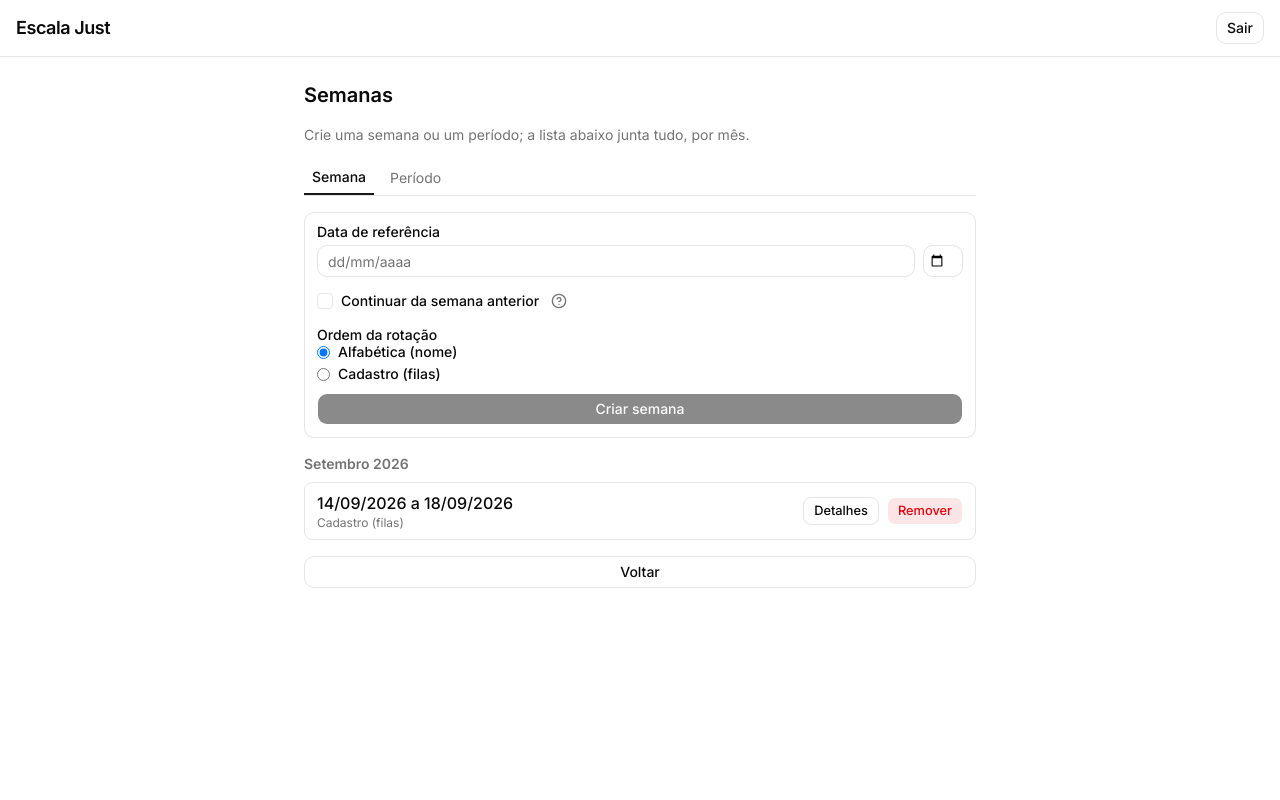
guardas de rota › criar semana com continuidade herda âncoras
Expected: the heading "Semanas" is shown, [304,83,393,107]
Click the checkbox named "continuar da semana anterior" at x=325, y=301, box [317,293,333,309]
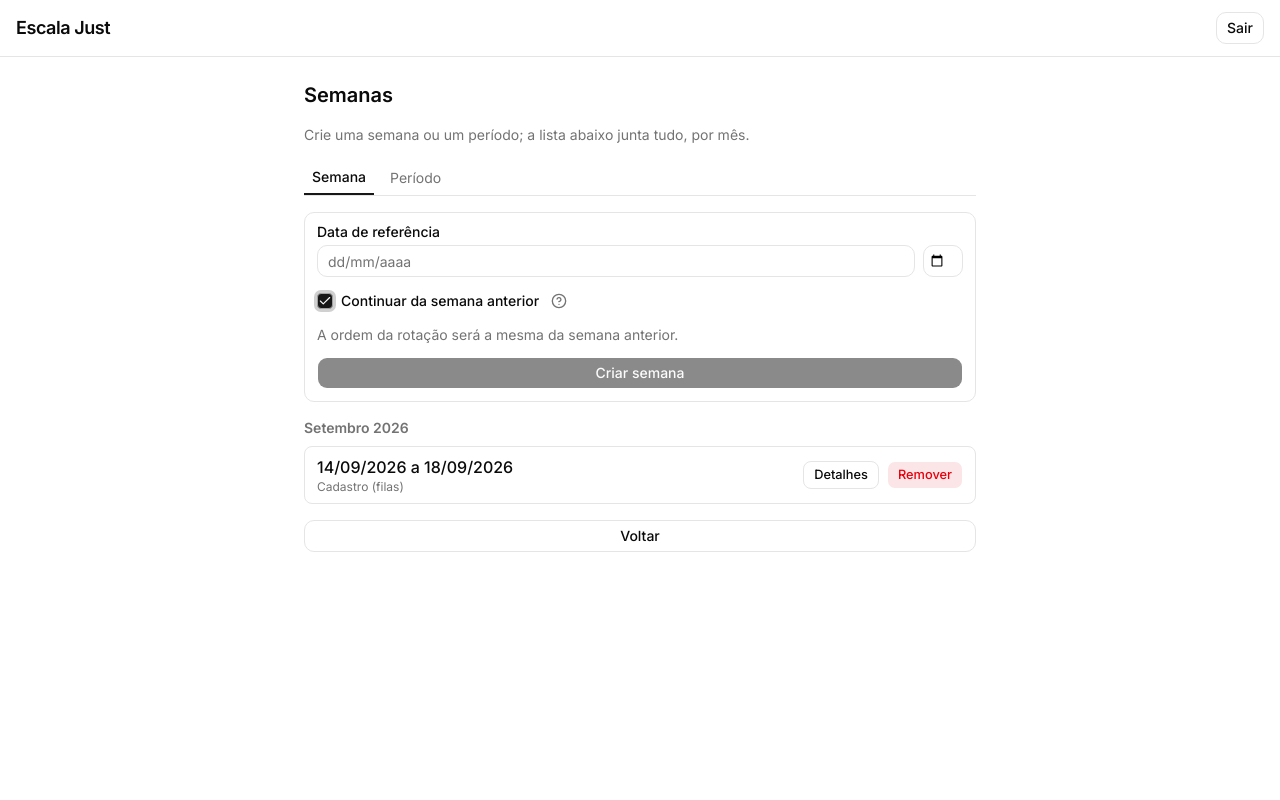
Type "21/09/2026" into the field labelled "Data de referência" at x=616, y=261, box [317,245,915,277]
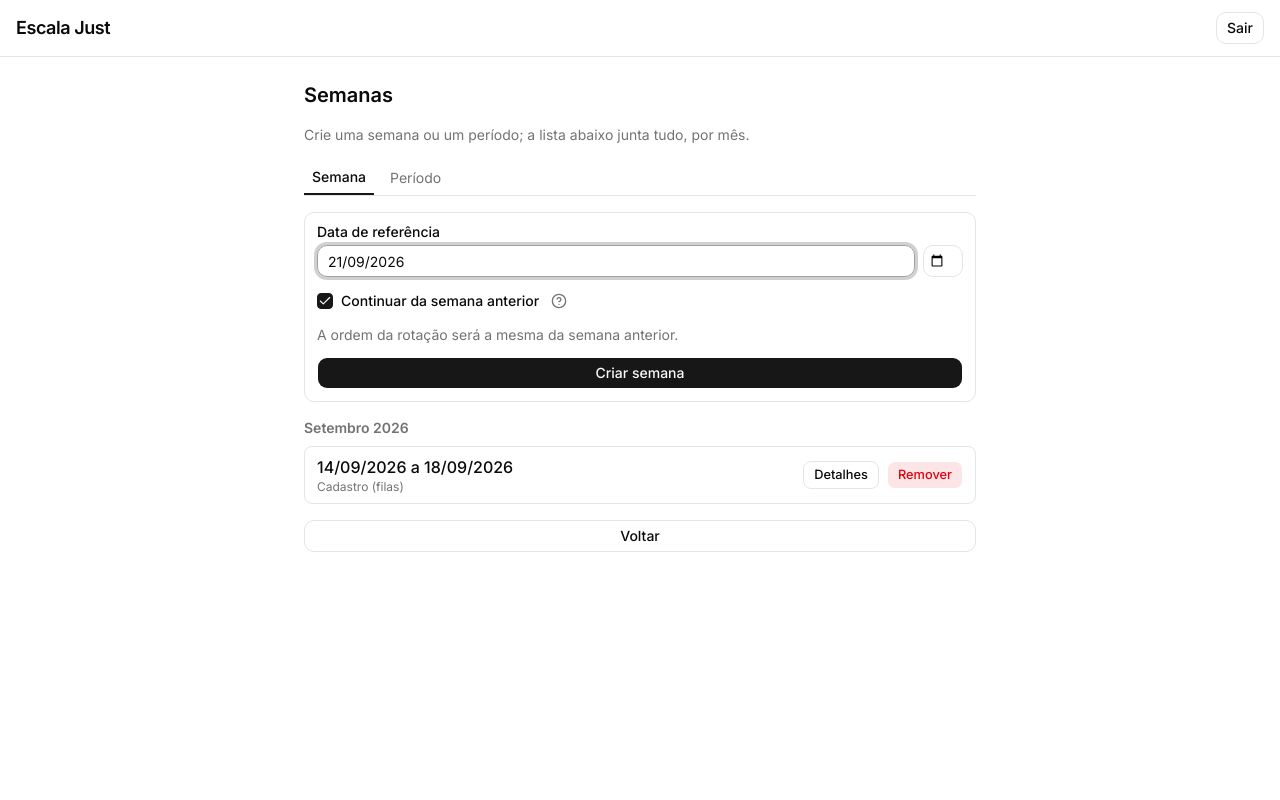
Click the button "Criar semana" at x=640, y=373, box [317,357,963,389]
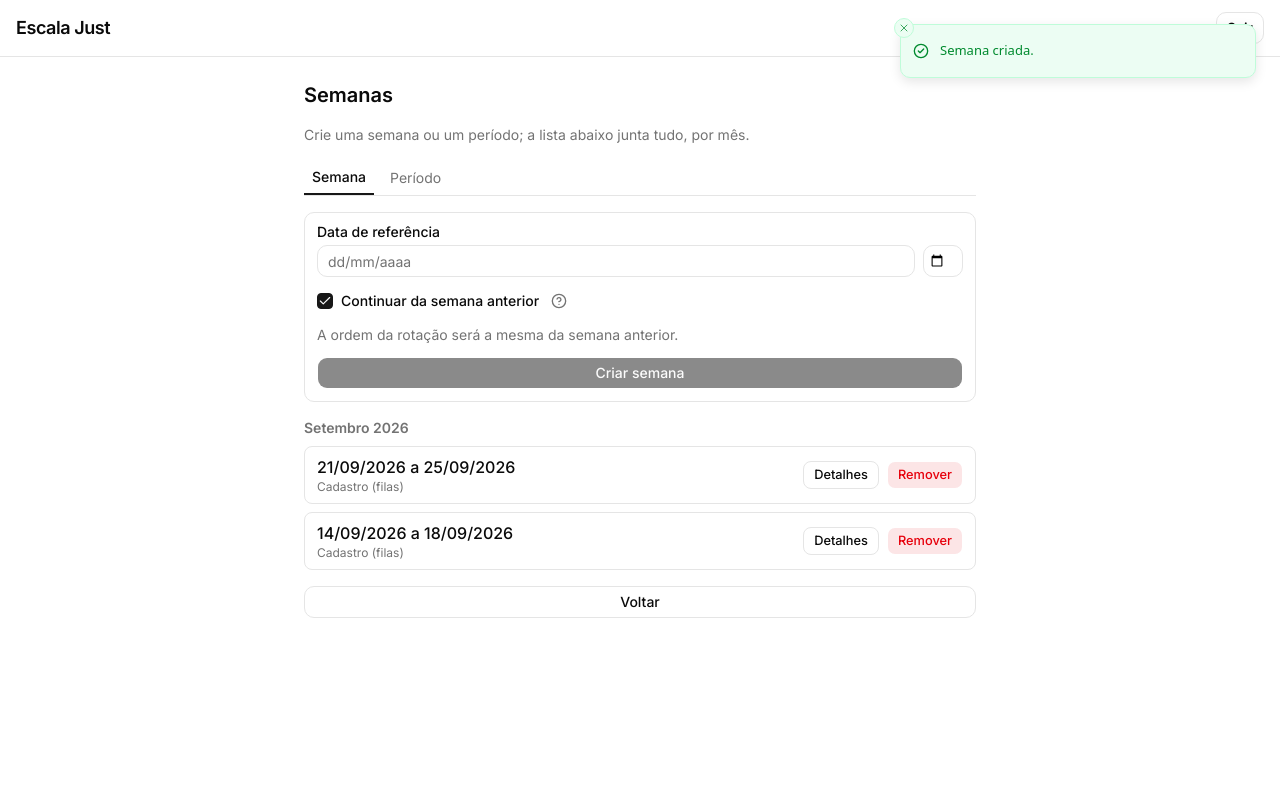
Expected: the text "Semana criada." is shown, [940,41,1034,60]
Click the link "Detalhes" in the row of "21/09/2026 a 25/09/2026" at x=841, y=475, box [803,461,879,489]
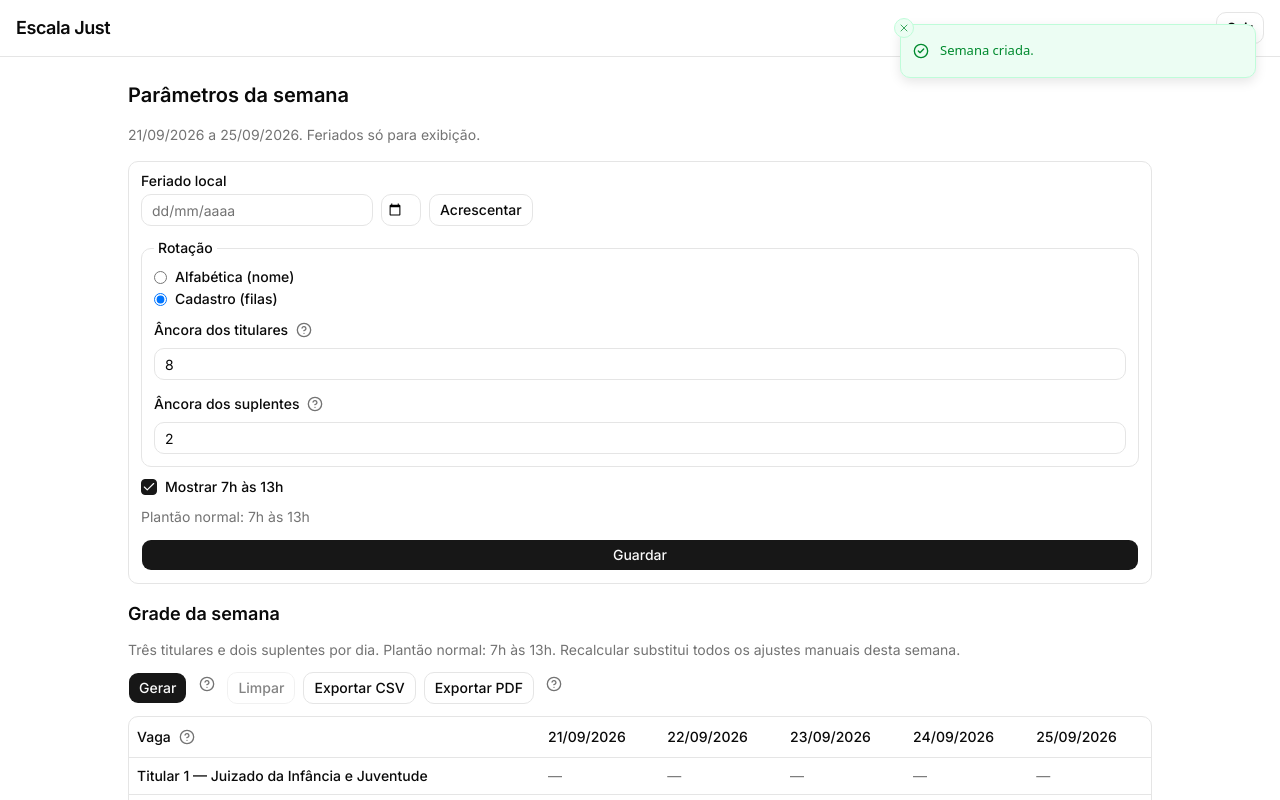
Expected: the heading "Parâmetros da semana" is shown, [128,83,349,107]
Expected: the radio button labelled "Cadastro (filas)" is checked, [154,292,167,306]
Expected: the number field labelled "Âncora dos titulares" holds "8", [154,348,1126,380]
